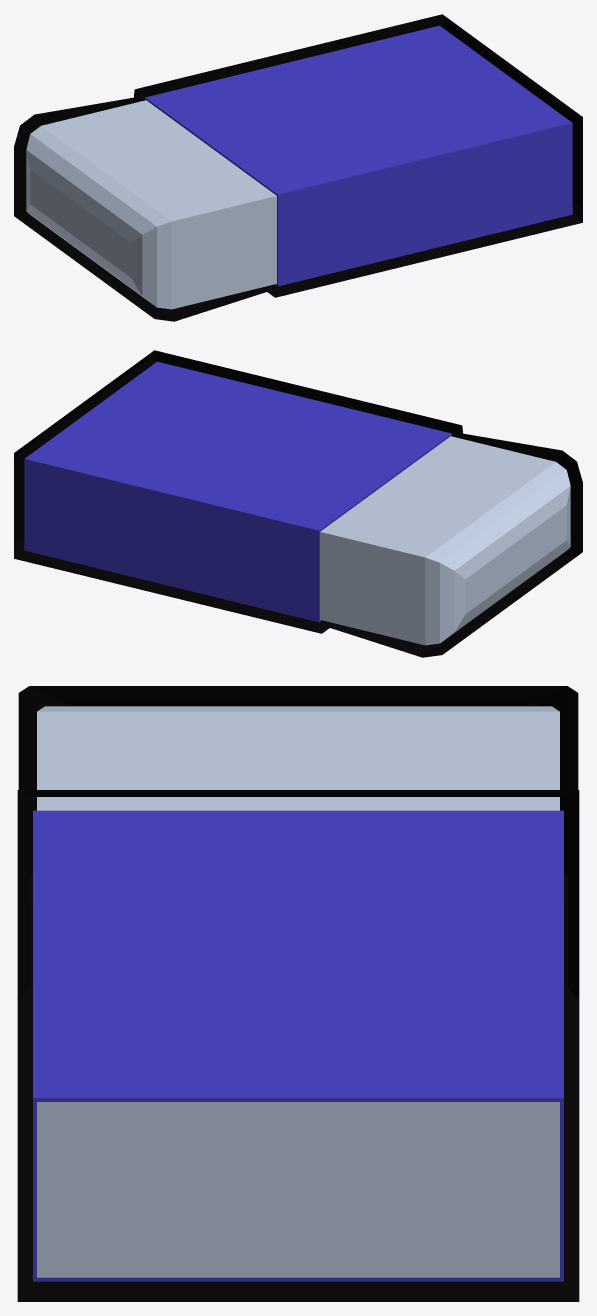
Rendered from eraser.fbx.
The picture shows the model from 3 angles, top to bottom: view 1: azimuth 30°, elevation 25°; view 2: azimuth 150°, elevation 25°; view 3: azimuth 270°, elevation 25°; orthographic projection. The views are drawn at different scales.
Parts seen in each view (by area): view 1: Cube; view 2: Cube; view 3: Cube.
Part boxes in pixels (x1,y1,x2,y2): Cube: (14,14,582,321); Cube: (14,350,582,657); Cube: (17,686,579,1301).
Size of the model in its own units: 39.02 by 8.79 by 21.19.
